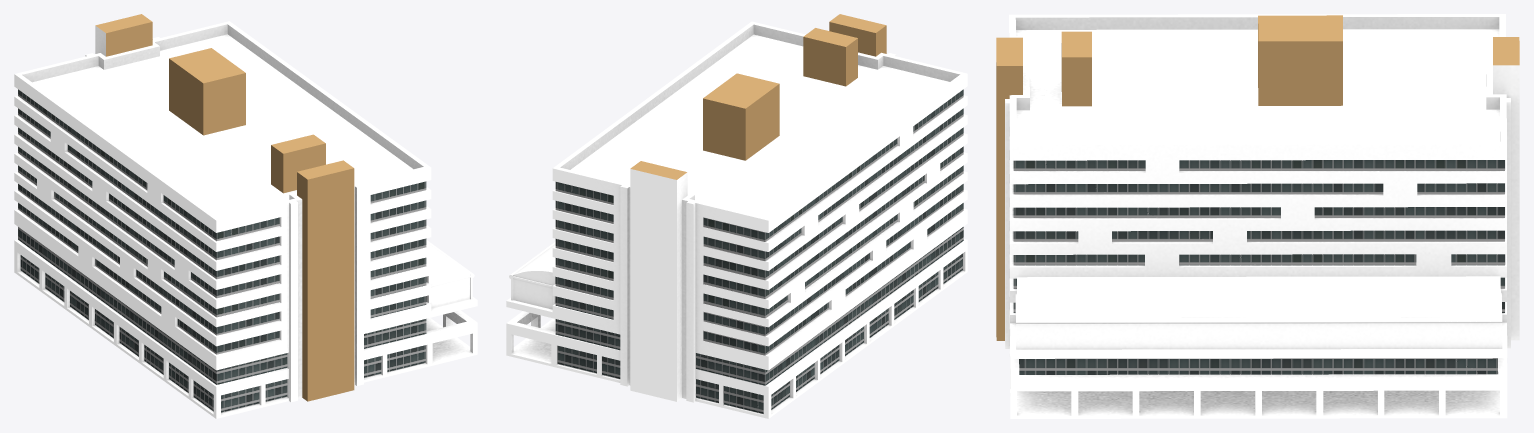
Rendered from BAN_602.glb.
3 renders of one model, left to right at view 1: azimuth 30°, elevation 25°; view 2: azimuth 150°, elevation 25°; view 3: azimuth 270°, elevation 25°, orthographic. The views are drawn at different scales.
Parts seen in each view (by area): view 1: Outer, Glass; view 2: Outer, Glass; view 3: Outer, Glass.
Part boxes in pixels (<box>): Outer: <box>14,14,477,418</box>; Glass: <box>18,89,426,412</box>; Outer: <box>506,14,967,418</box>; Glass: <box>555,89,963,413</box>; Outer: <box>996,14,1519,418</box>; Glass: <box>1013,160,1504,374</box>.
Size of the model in its own units: 0.1111 by 0.097 by 0.1544.
3 materials, 2 textured.
